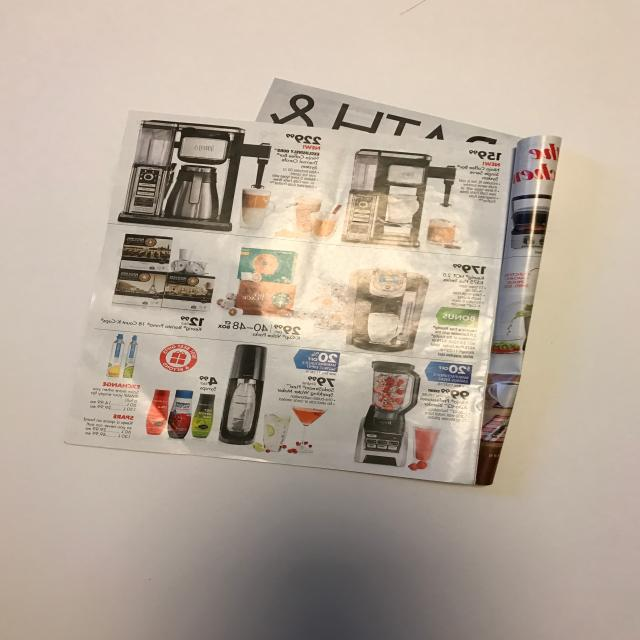paper: (52, 69, 581, 500)
